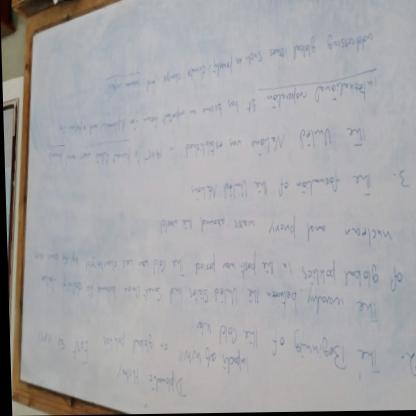Handwritten text: (46, 63, 392, 144), (95, 23, 388, 108), (33, 269, 382, 330), (41, 115, 372, 177), (29, 245, 403, 297), (180, 313, 387, 384), (184, 163, 381, 212), (146, 215, 393, 250), (94, 328, 252, 380), (104, 357, 192, 406), (24, 323, 99, 373)
Whiteboard: (13, 0, 416, 411)
